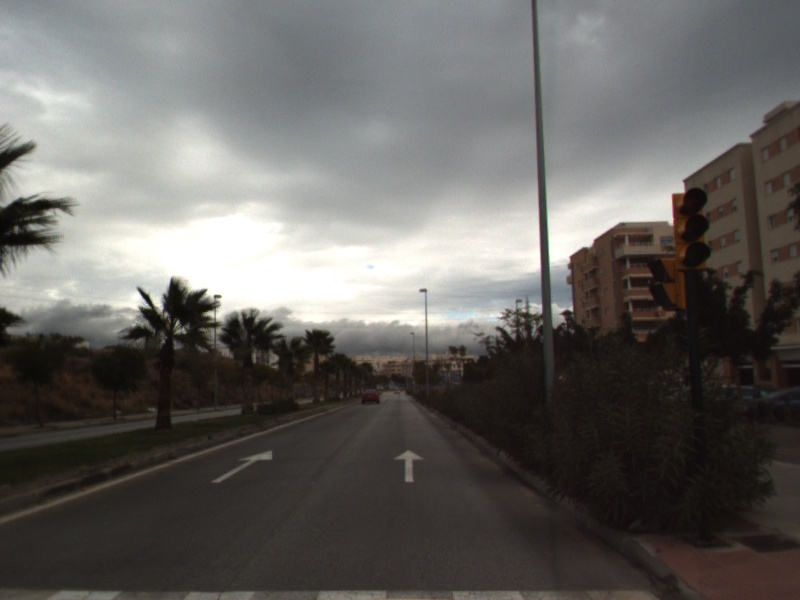STRAIGHT: (210, 448, 274, 485), (392, 448, 426, 484)
